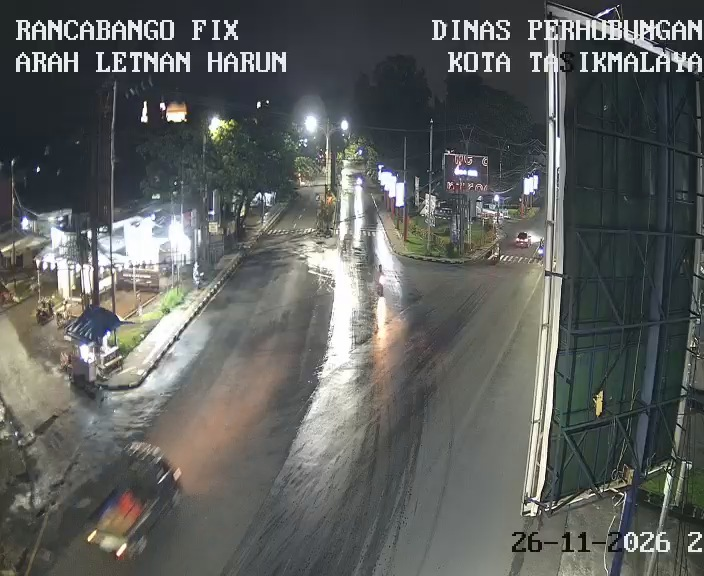Gerobak: (65, 302, 123, 383)
